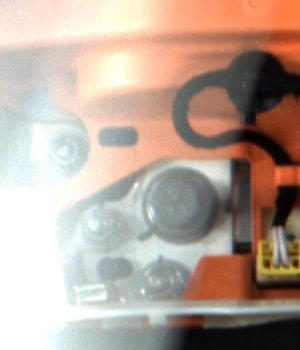nut_b: (141, 165, 216, 243)
